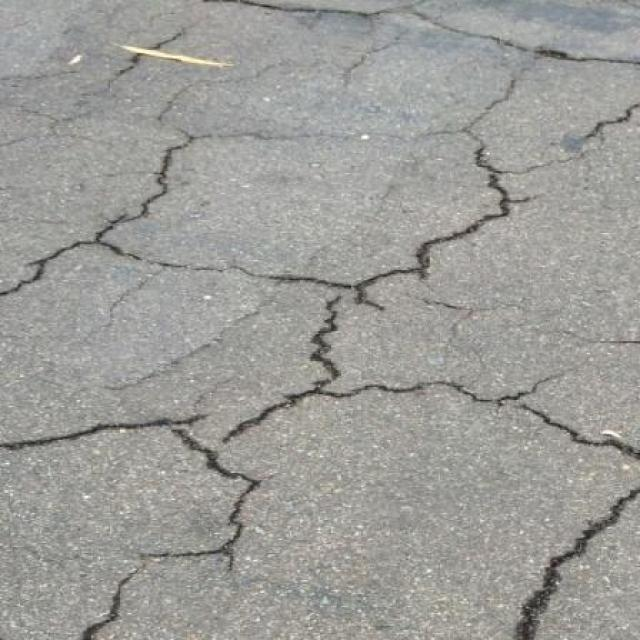Crack: (210, 100, 529, 312), (0, 409, 260, 571), (220, 295, 455, 443), (0, 132, 211, 296), (515, 488, 640, 640), (431, 23, 640, 69), (522, 407, 640, 461), (83, 562, 146, 640), (205, 0, 428, 21), (585, 102, 640, 144), (365, 29, 409, 61), (135, 262, 172, 291), (429, 304, 494, 317), (146, 34, 180, 52)
